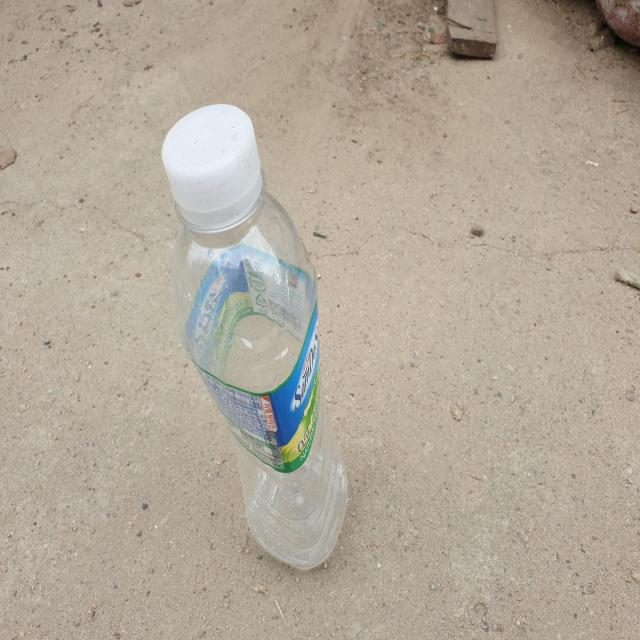plastic: (161, 103, 348, 570)
